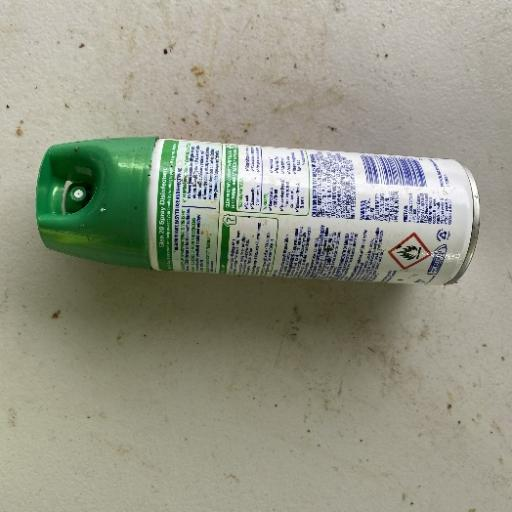Metal: (33, 133, 482, 288)
